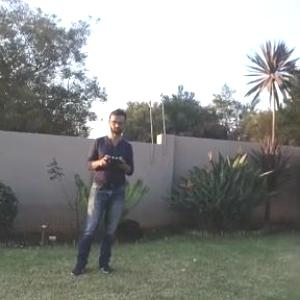follow: (62, 105, 134, 278)
